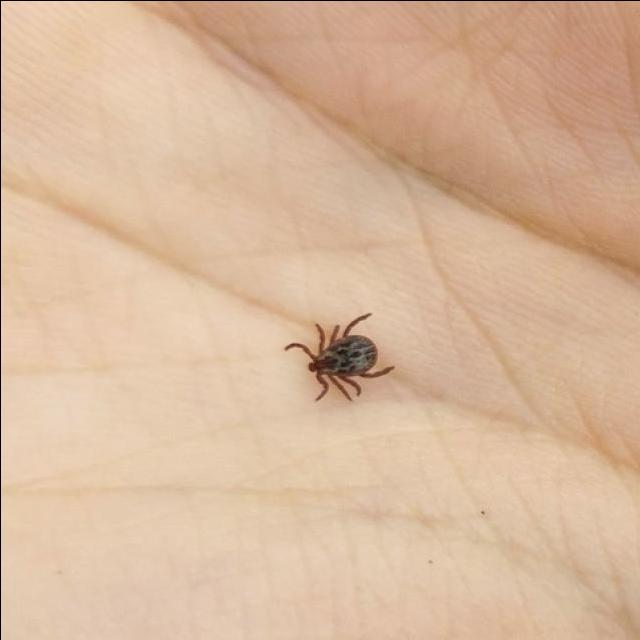Dermacentor Reticulatus-M: (282, 311, 395, 402)
